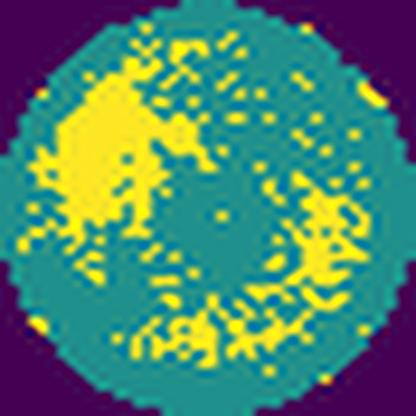Donut: (24, 24, 378, 377)
